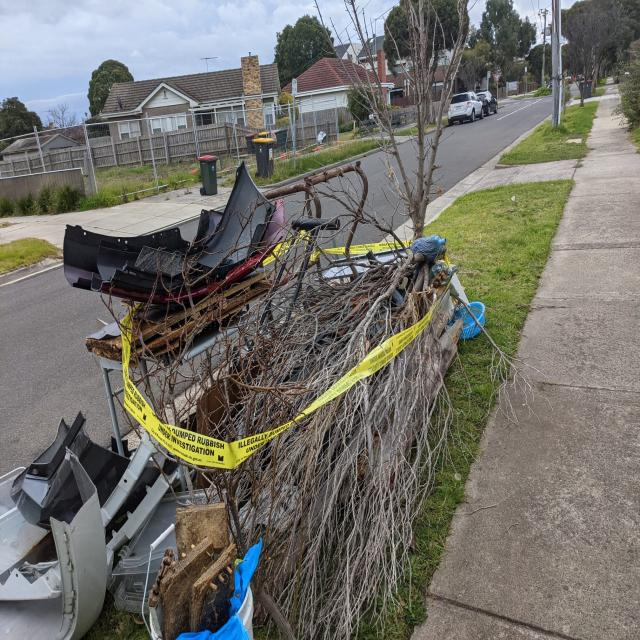dumping: (0, 128, 483, 640)
